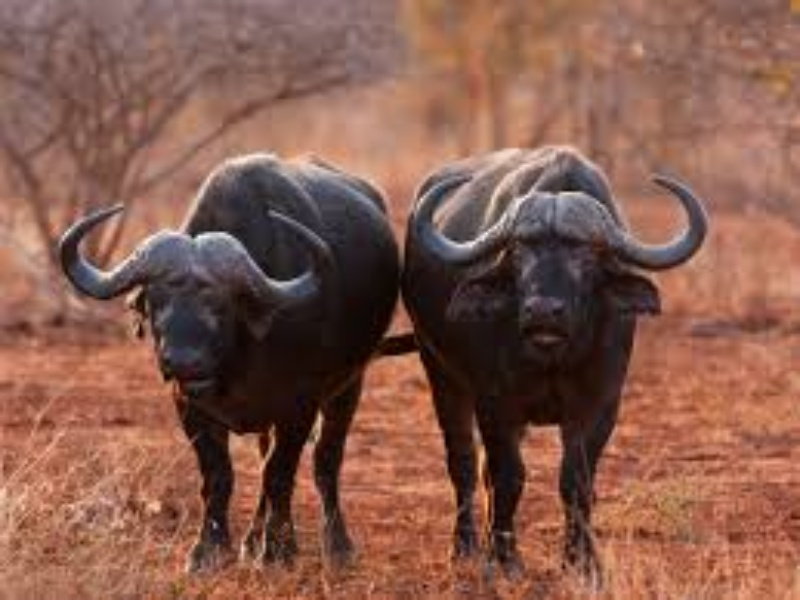buffalo: (54, 141, 739, 570)
